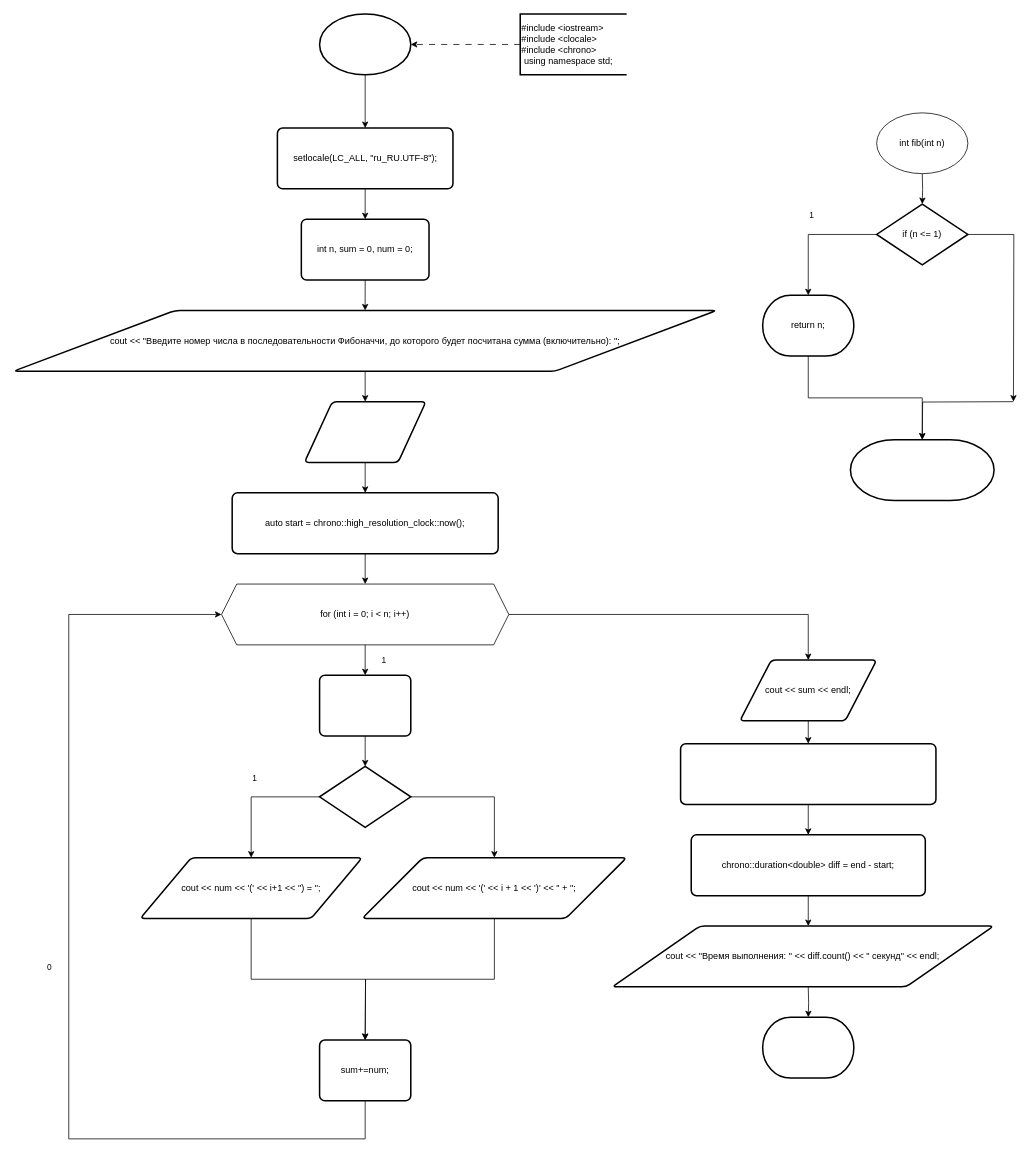
The diagram is 1034 pixels wide and 1158 high, and some of its shapes have lost their labels. The box of each missing label's shape, as (x1, y1, x2, y2) in pixels:
auto end = chrono::high_resolution_clock::now();: (679, 743, 936, 805)
cin >> n;: (303, 401, 426, 463)
if (n - i == 1): (318, 765, 411, 828)
int main(): (318, 13, 411, 75)
num = fib(i);: (318, 674, 411, 736)
return 0;: (762, 1016, 854, 1078)
return fib(n-1) + fib(n-2);: (849, 439, 994, 501)
